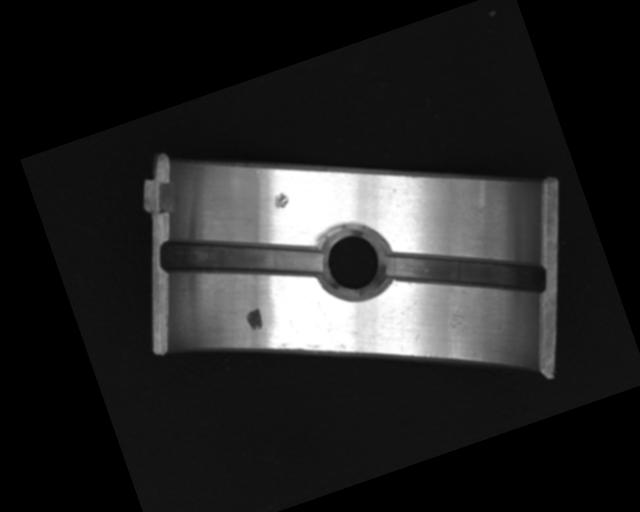blot: (243, 306, 266, 333)
bruise: (269, 189, 291, 211)
gap: (378, 207, 551, 337), (155, 194, 328, 324)
hole: (310, 216, 394, 304)
